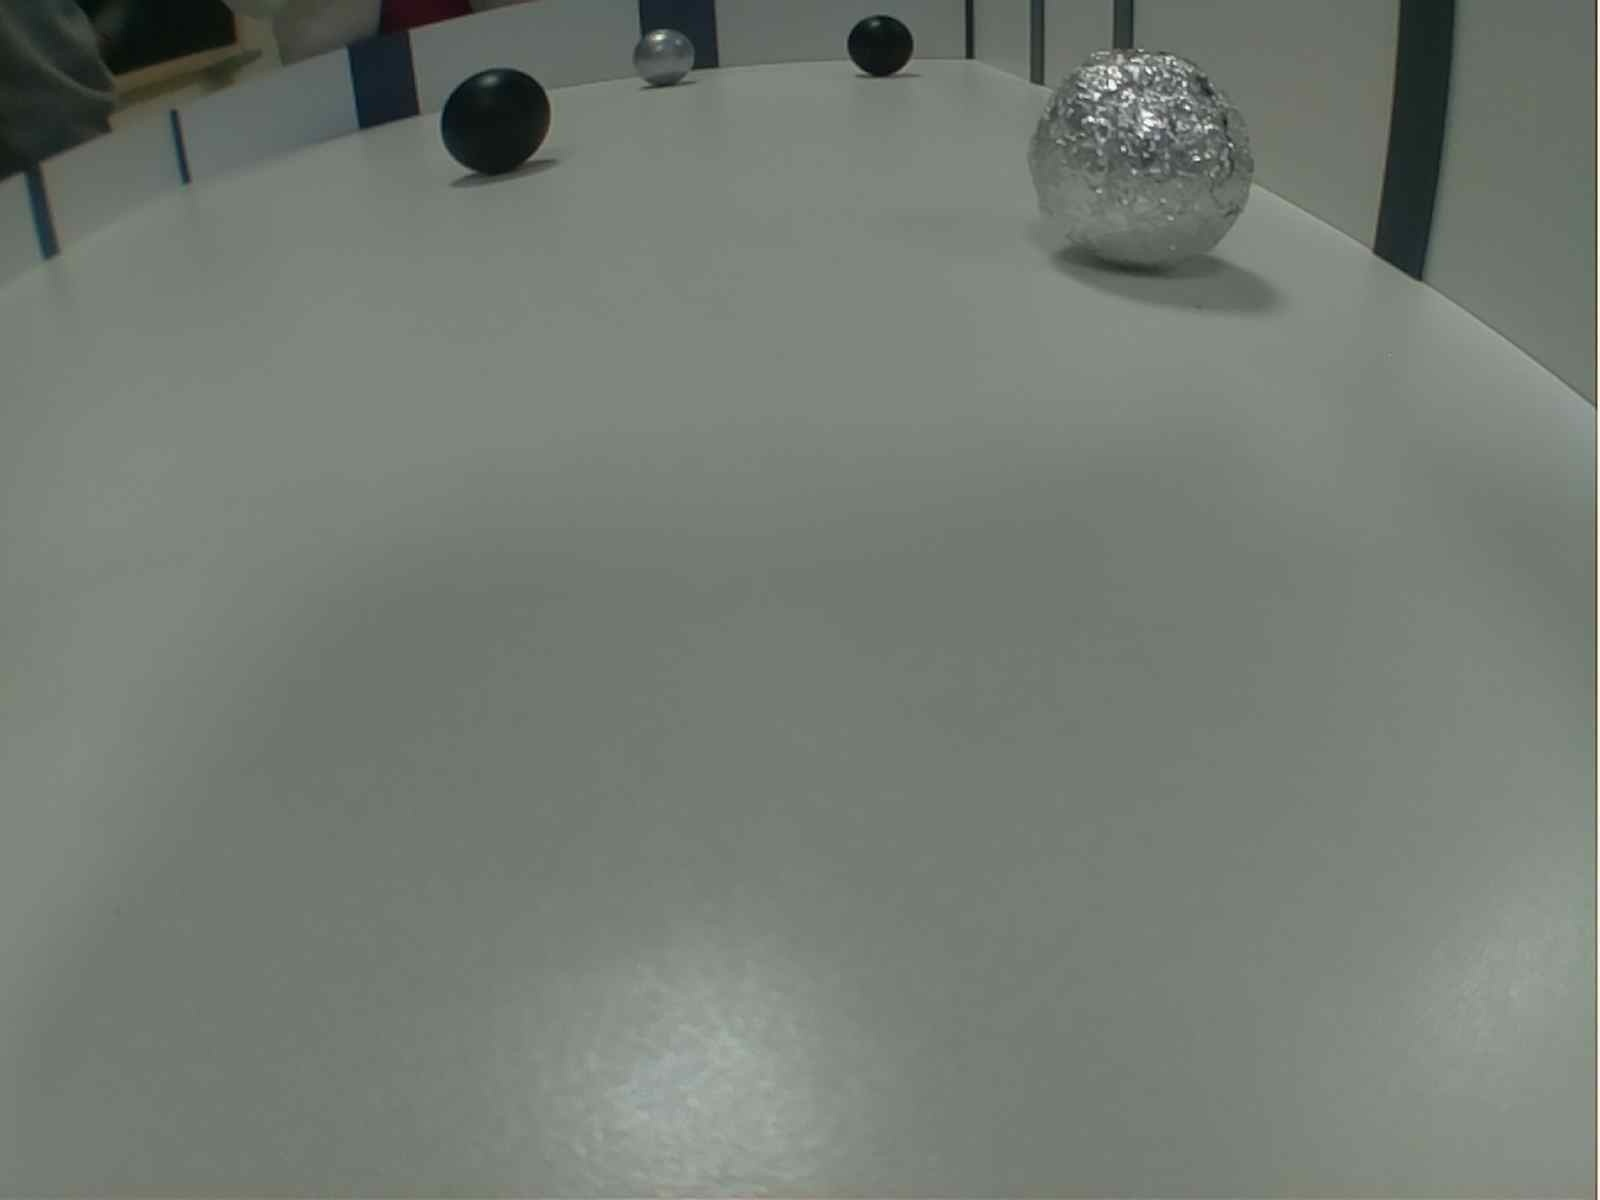bianca: (1024, 39, 1261, 275), (631, 26, 694, 89)
nera: (437, 62, 554, 179), (847, 14, 915, 76)
